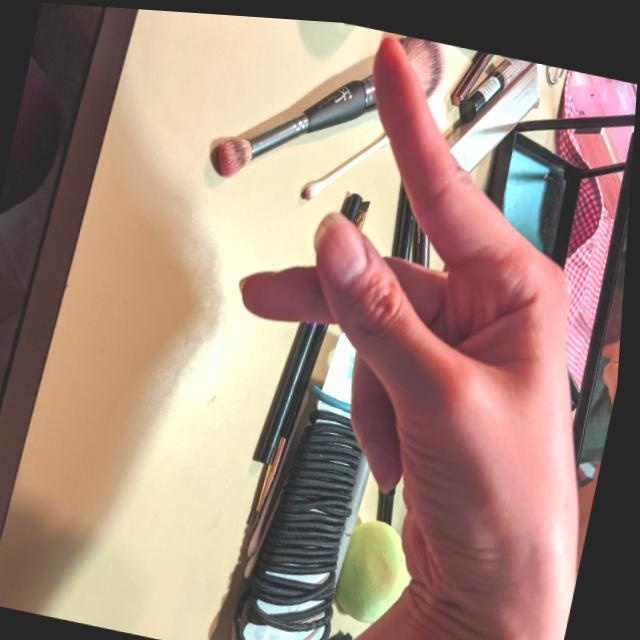P: (184, 11, 639, 618)
